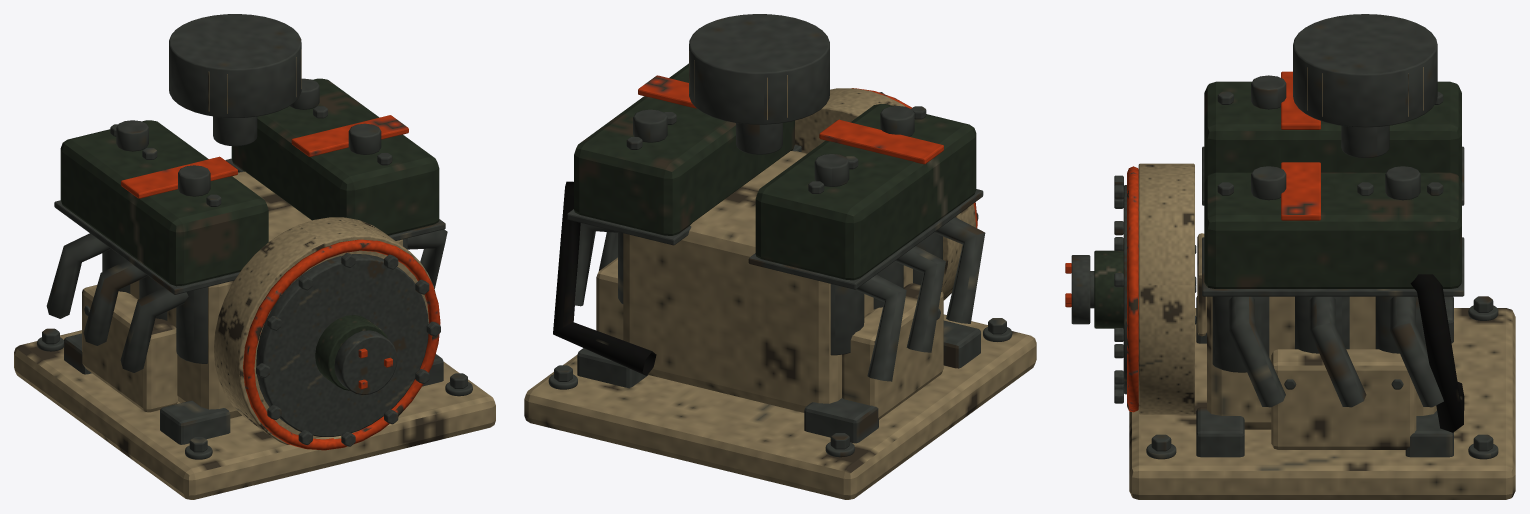
File: 34_low_gear_engine.glb
3 views of the same model, side by side, from view 1: azimuth 30°, elevation 25°; view 2: azimuth 150°, elevation 25°; view 3: azimuth 270°, elevation 25° (orthographic). The views are drawn at different scales.
Parts seen in each view (by area): view 1: Fixed_Body, Engine_Pulley; view 2: Fixed_Body, Engine_Pulley; view 3: Fixed_Body, Engine_Pulley.
Boxes of the visible parts, x1,y1,x2,y2 form: Fixed_Body: (14,14,495,499); Engine_Pulley: (214,217,440,450); Fixed_Body: (524,14,1036,499); Engine_Pulley: (795,88,978,300); Fixed_Body: (1129,14,1515,499); Engine_Pulley: (1065,163,1194,414).
Size of the model in its own units: 1.31 by 1.39 by 1.51.
Materials: 5 (5 with a texture image).
